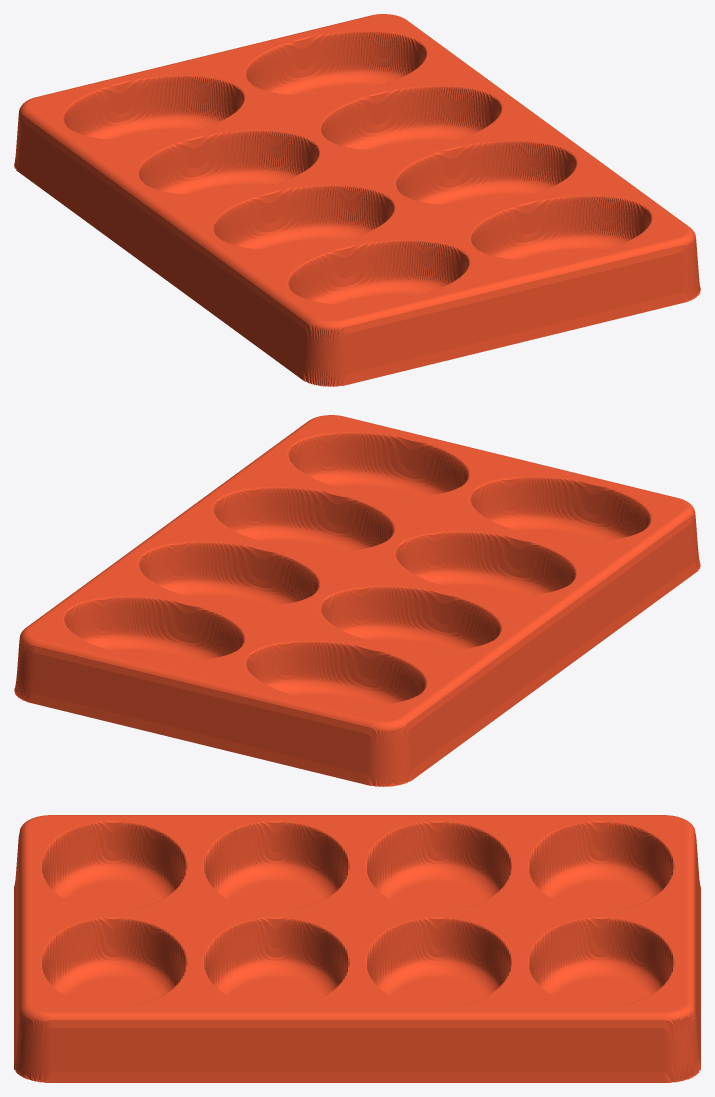
The model's file is mold.glb.
3 views of the same model, one above another, from view 1: azimuth 30°, elevation 25°; view 2: azimuth 150°, elevation 25°; view 3: azimuth 270°, elevation 25° (orthographic). The views are drawn at different scales.
Parts seen in each view (by area): view 1: geometry_0; view 2: geometry_0; view 3: geometry_0.
Part boxes in pixels (x1,y1,x2,y2): geometry_0: (14, 14, 700, 386); geometry_0: (14, 415, 700, 786); geometry_0: (14, 815, 700, 1082).
Size of the model in its own units: 0.1209 by 0.0175 by 0.1683.
